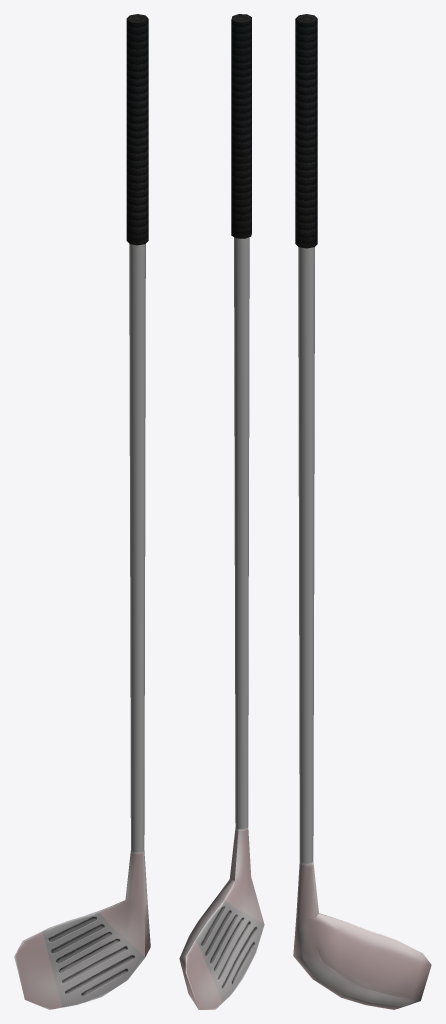
The model's file is WedgeOTL.FBX.
The picture shows the model from 3 angles, left to right: view 1: azimuth 90°, elevation 25°; view 2: azimuth 150°, elevation 25°; view 3: azimuth 270°, elevation 25°; orthographic projection. The views are drawn at different scales.
Visible parts, largest first — view 1: Wedge; view 2: Wedge; view 3: Wedge.
Boxes of the visible parts, x1,y1,x2,y2 form: Wedge: [14, 14, 150, 1009]; Wedge: [179, 14, 264, 1009]; Wedge: [293, 14, 431, 1009].
Bounding box in the file's own units: 0.0396 × 1.16 × 0.1457.
1 material, 1 textured.
